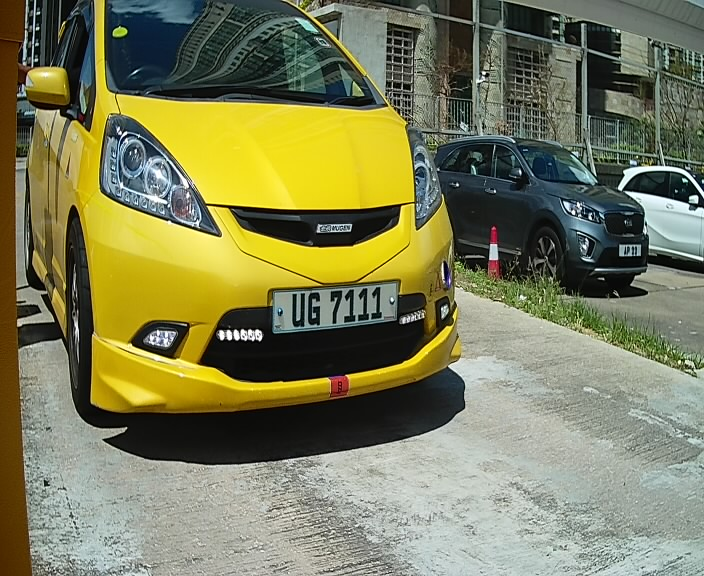Car: (14, 2, 486, 464)
License Plate: (265, 273, 413, 344)
